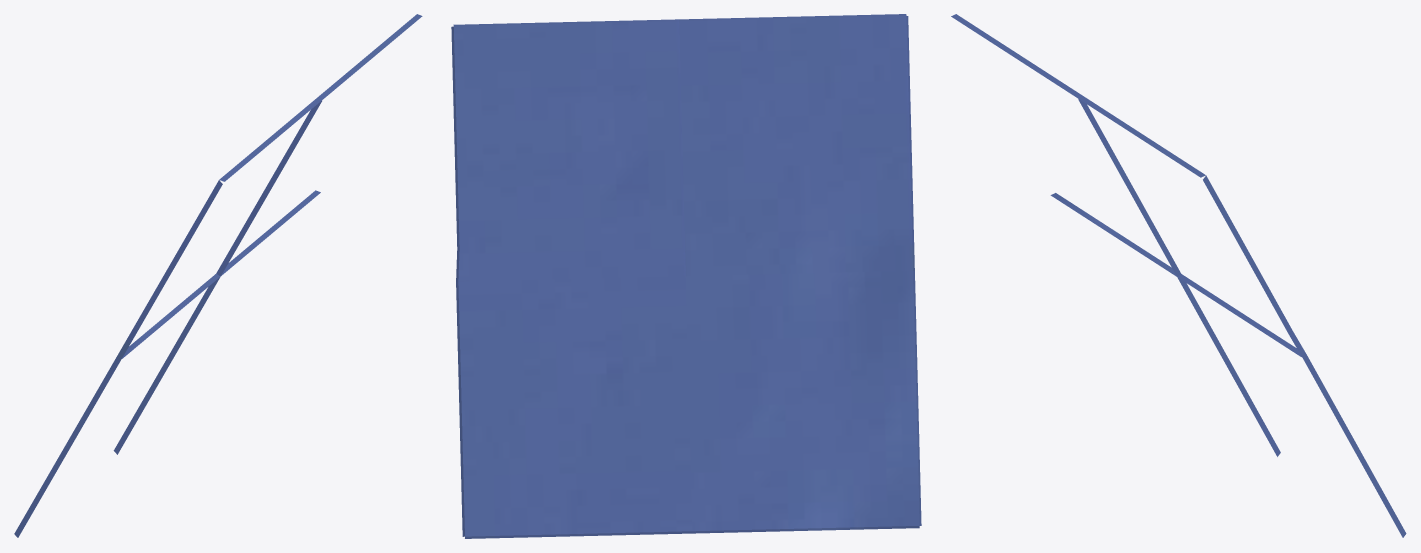
The picture shows the model from 3 angles, left to right: view 1: azimuth 30°, elevation 25°; view 2: azimuth 150°, elevation 25°; view 3: azimuth 270°, elevation 25°; orthographic projection. The views are drawn at different scales.
Size of the model in its own units: 39429 by 35104 by 34787.
1 material, 1 textured.
